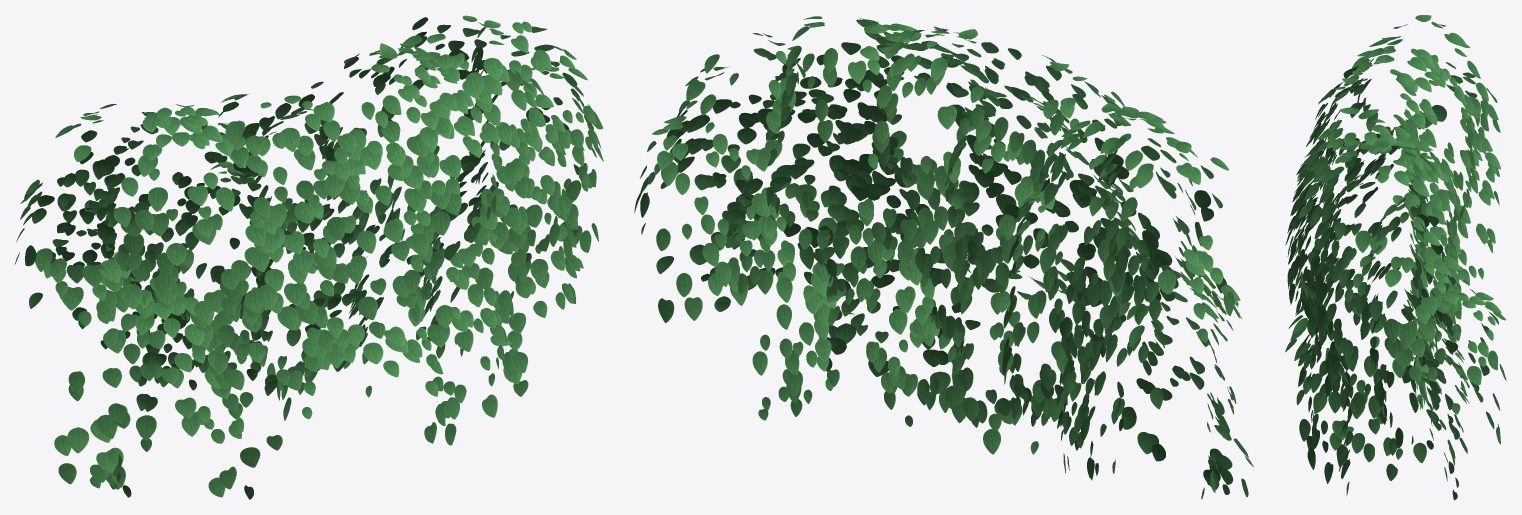
File: ivy_smallCliffBent.fbx
3 renders of one model, left to right at view 1: azimuth 30°, elevation 25°; view 2: azimuth 150°, elevation 25°; view 3: azimuth 270°, elevation 25°, orthographic. The views are drawn at different scales.
Visible parts, largest first — view 1: cliffIvyBent; view 2: cliffIvyBent; view 3: cliffIvyBent.
Part boxes in pixels (<box>): cliffIvyBent: <box>15,15,603,499</box>; cliffIvyBent: <box>634,16,1253,499</box>; cliffIvyBent: <box>1285,15,1506,500</box>.
Size of the model in its own units: 864 by 591 by 329.
